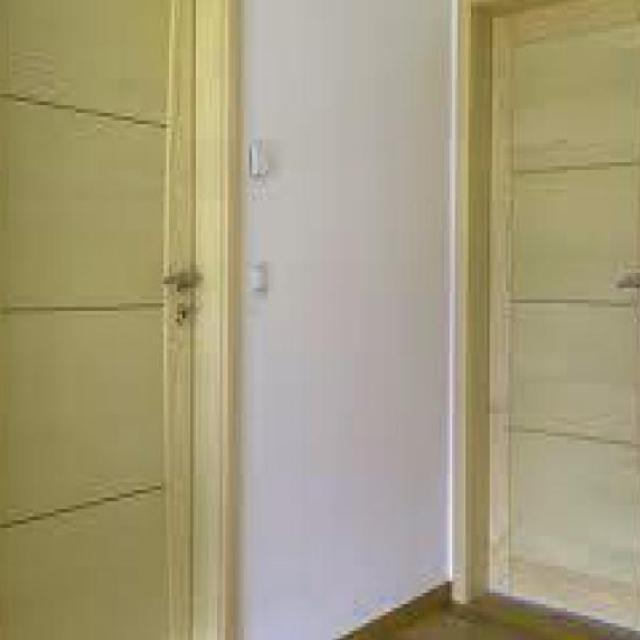door: (0, 0, 203, 638), (485, 4, 640, 628)
